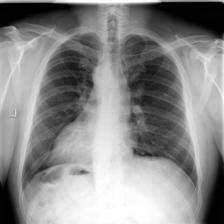normal: (18, 28, 200, 194)
